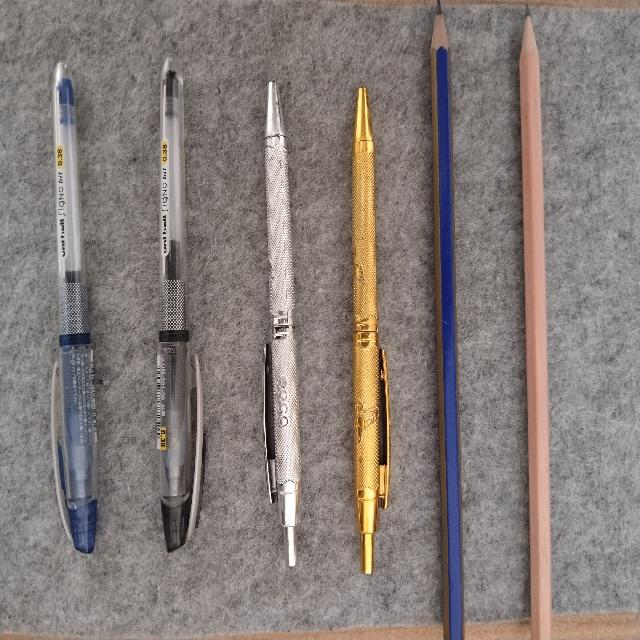pen: (156, 57, 202, 551), (52, 62, 96, 552)
pencil: (430, 2, 463, 639), (519, 9, 551, 639)
signature pen: (352, 88, 389, 573), (264, 82, 300, 565)
